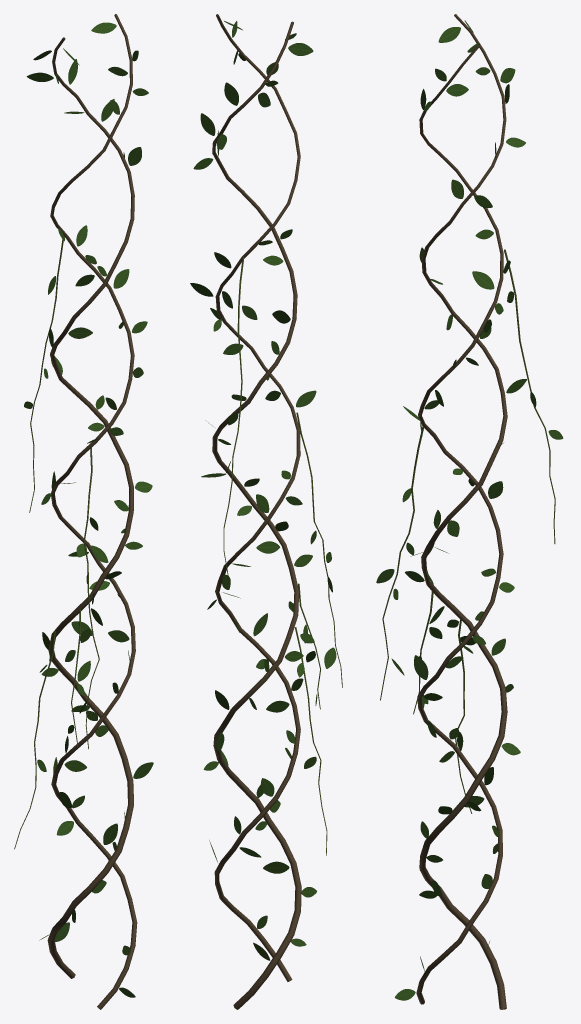
File: liana_climb_07_lod1.gltf
The picture shows the model from 3 angles, left to right: view 1: azimuth 30°, elevation 25°; view 2: azimuth 150°, elevation 25°; view 3: azimuth 270°, elevation 25°; orthographic projection.
Visible parts, largest first — view 1: liana_climb_07; view 2: liana_climb_07; view 3: liana_climb_07.
Boxes of the visible parts, box(x1,y1,x2,y2) form: liana_climb_07: box(14, 14, 153, 1009); liana_climb_07: box(190, 14, 342, 1009); liana_climb_07: box(376, 14, 563, 1009).
Bounding box in the file's own units: 1.01 × 7.02 × 1.27.
3 materials, 3 textured.
